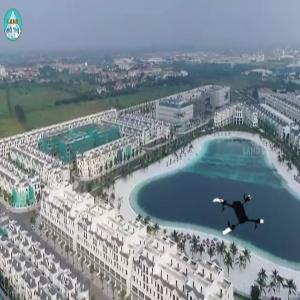drone: (208, 188, 265, 245)
